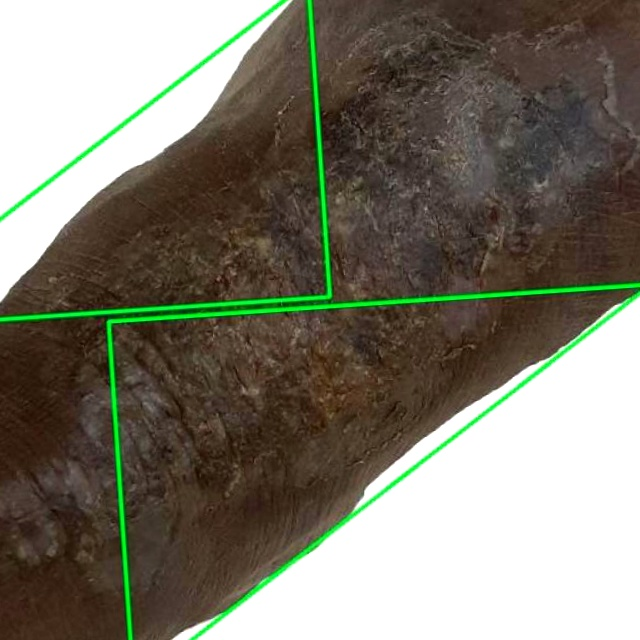Contact Dermatitis: (0, 0, 639, 639), (108, 285, 639, 639), (0, 0, 330, 319)
